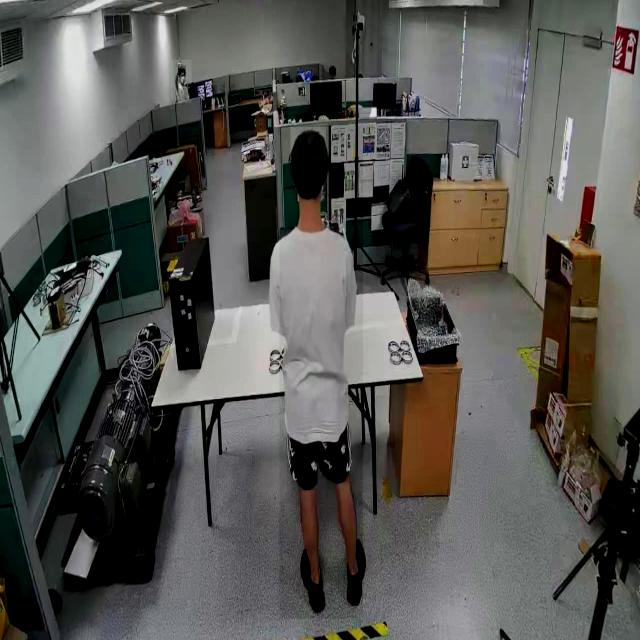face_mask: (178, 68, 186, 86)
head_nohelmet: (290, 127, 329, 161), (178, 66, 186, 72)
person: (279, 126, 363, 620), (171, 60, 191, 104)
shoes: (297, 542, 327, 614), (340, 540, 369, 609)
